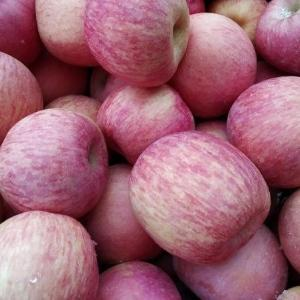apple: (130, 130, 270, 265), (1, 108, 108, 221), (170, 11, 257, 119), (83, 1, 189, 88), (1, 211, 101, 299), (97, 81, 197, 167), (174, 225, 287, 300), (227, 76, 300, 190), (35, 1, 97, 66), (1, 53, 44, 143), (254, 1, 300, 75), (98, 261, 185, 300)
